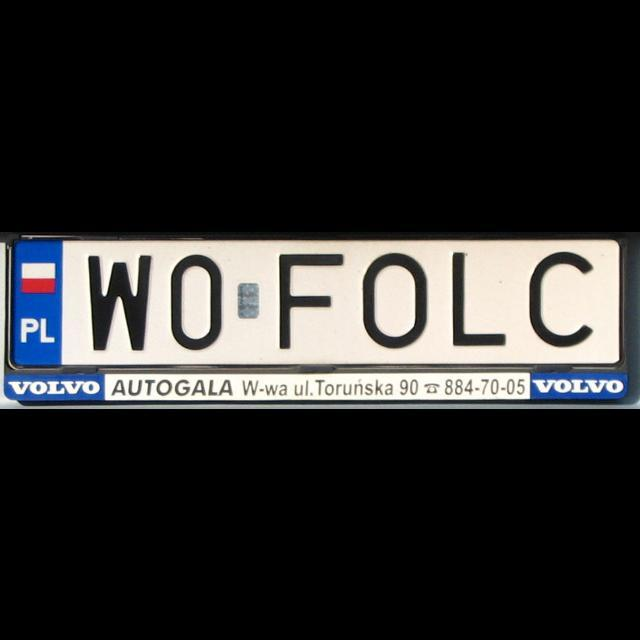license-plates: (9, 239, 623, 368)
